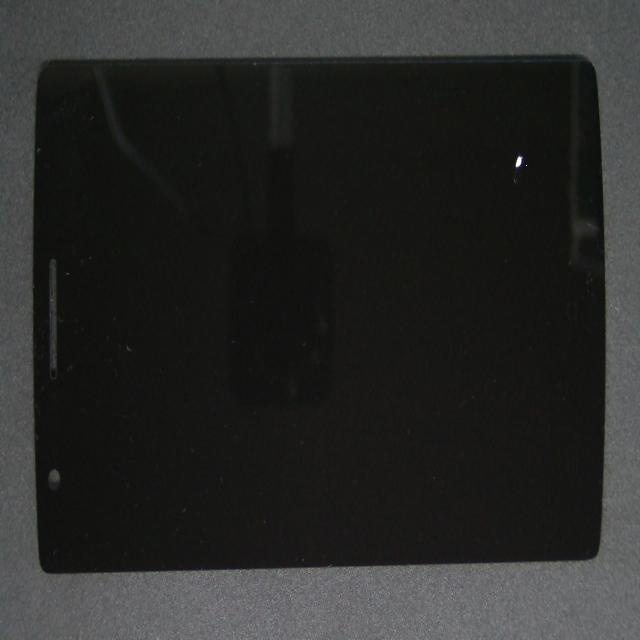stain: (247, 67, 640, 270)
